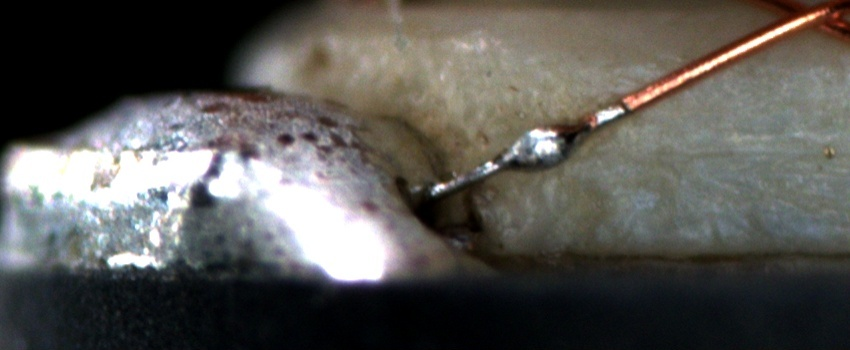CL: (757, 0, 844, 42)
DL: (556, 121, 850, 185), (554, 48, 850, 87)
TB: (504, 115, 586, 175)
TS: (406, 103, 625, 201)
TTCW: (411, 67, 677, 203)
